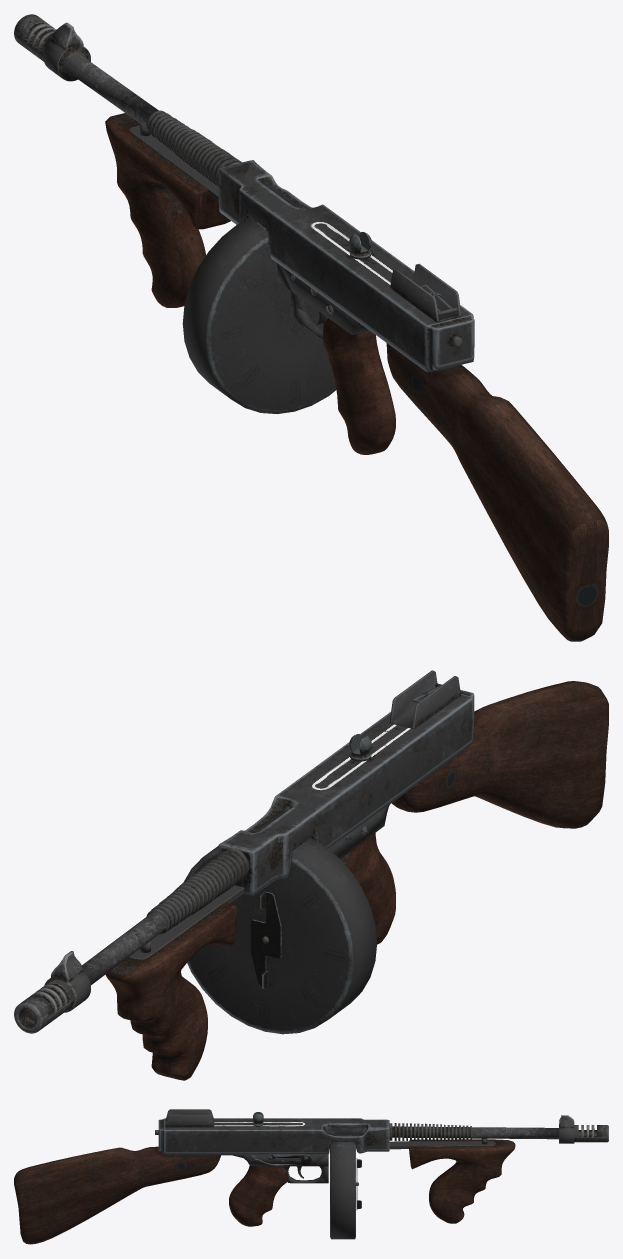
File: smg_tommy.glb
3 views of the same model, one above another, from view 1: azimuth 30°, elevation 25°; view 2: azimuth 150°, elevation 25°; view 3: azimuth 270°, elevation 25° (orthographic). The views are drawn at different scales.
Parts seen in each view (by area): view 1: body, mag; view 2: body, mag; view 3: body, mag.
Part boxes in pixels (<box>): body: <box>14,14,608,641</box>; mag: <box>182,198,336,413</box>; body: <box>14,670,608,1080</box>; mag: <box>183,817,376,1034</box>; body: <box>14,1109,608,1244</box>; mag: <box>313,1136,359,1239</box>.
Bounding box in the file's own units: 0.1471 × 0.1961 × 0.81.
12 materials, 12 textured.
